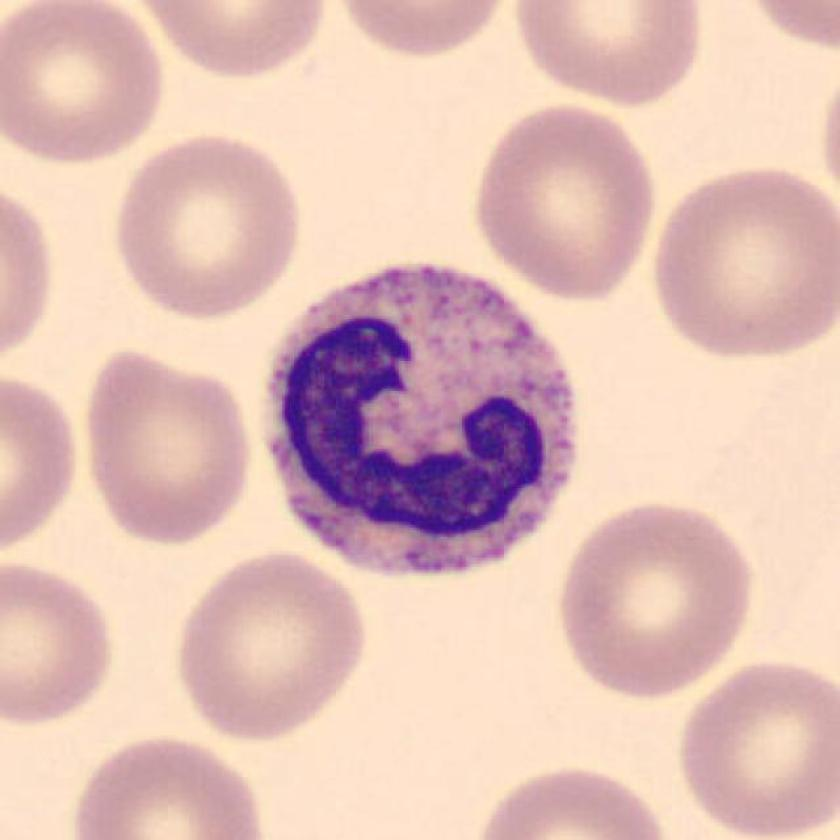neutrophil: (269, 269, 572, 572)
